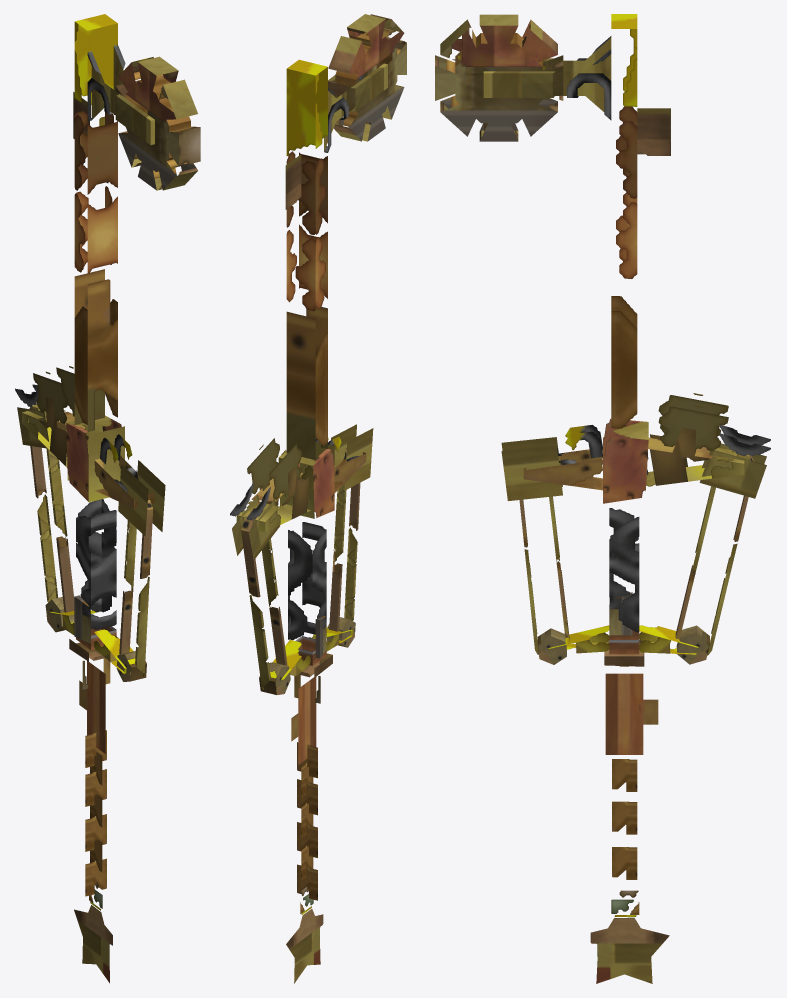
The model's file is wishingstar.obj.
3 renders of one model, left to right at view 1: azimuth 30°, elevation 25°; view 2: azimuth 150°, elevation 25°; view 3: azimuth 270°, elevation 25°, orthographic. The views are drawn at different scales.
Parts seen in each view (by area): view 1: mesh; view 2: mesh; view 3: mesh.
Boxes of the visible parts, box(x1,y1,x2,y2) form: mesh: box(15, 14, 200, 983); mesh: box(230, 14, 406, 983); mesh: box(435, 14, 770, 983).
Bounding box in the file's own units: 5.06 × 127 × 40.45.
